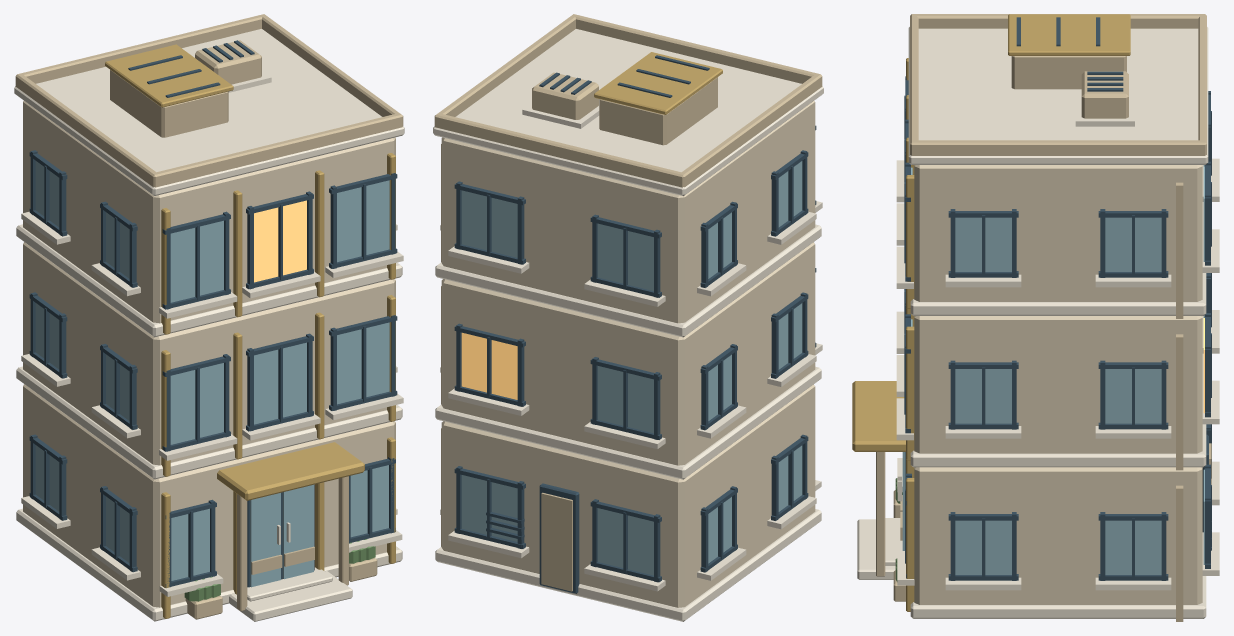
Rendered from office-l03.glb.
3 views of the same model, side by side, from view 1: azimuth 30°, elevation 25°; view 2: azimuth 150°, elevation 25°; view 3: azimuth 270°, elevation 25° (orthographic). The views are drawn at different scales.
Visible parts, largest first — view 1: office_L03; view 2: office_L03; view 3: office_L03.
Boxes of the visible parts, bbox=[...] form: office_L03: bbox=[14, 14, 404, 621]; office_L03: bbox=[433, 14, 823, 621]; office_L03: bbox=[852, 14, 1219, 621].
Size of the model in its own units: 4.62 by 7.74 by 5.09.
